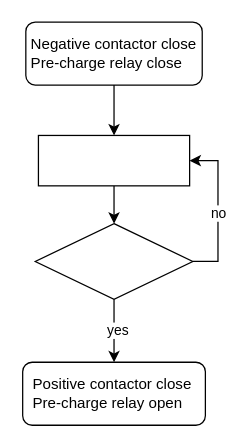
Image size: 249x447. Some labels were removed from this diagram. Each missing label, with the centre of its shape:
Measure Vc: (113,160)
Vc > 90% Vbat?: (113,260)
